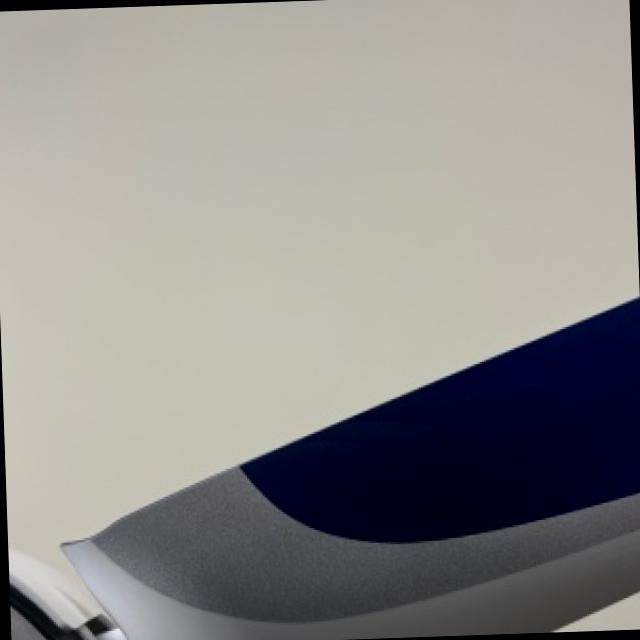healthy: (65, 296, 640, 640)
